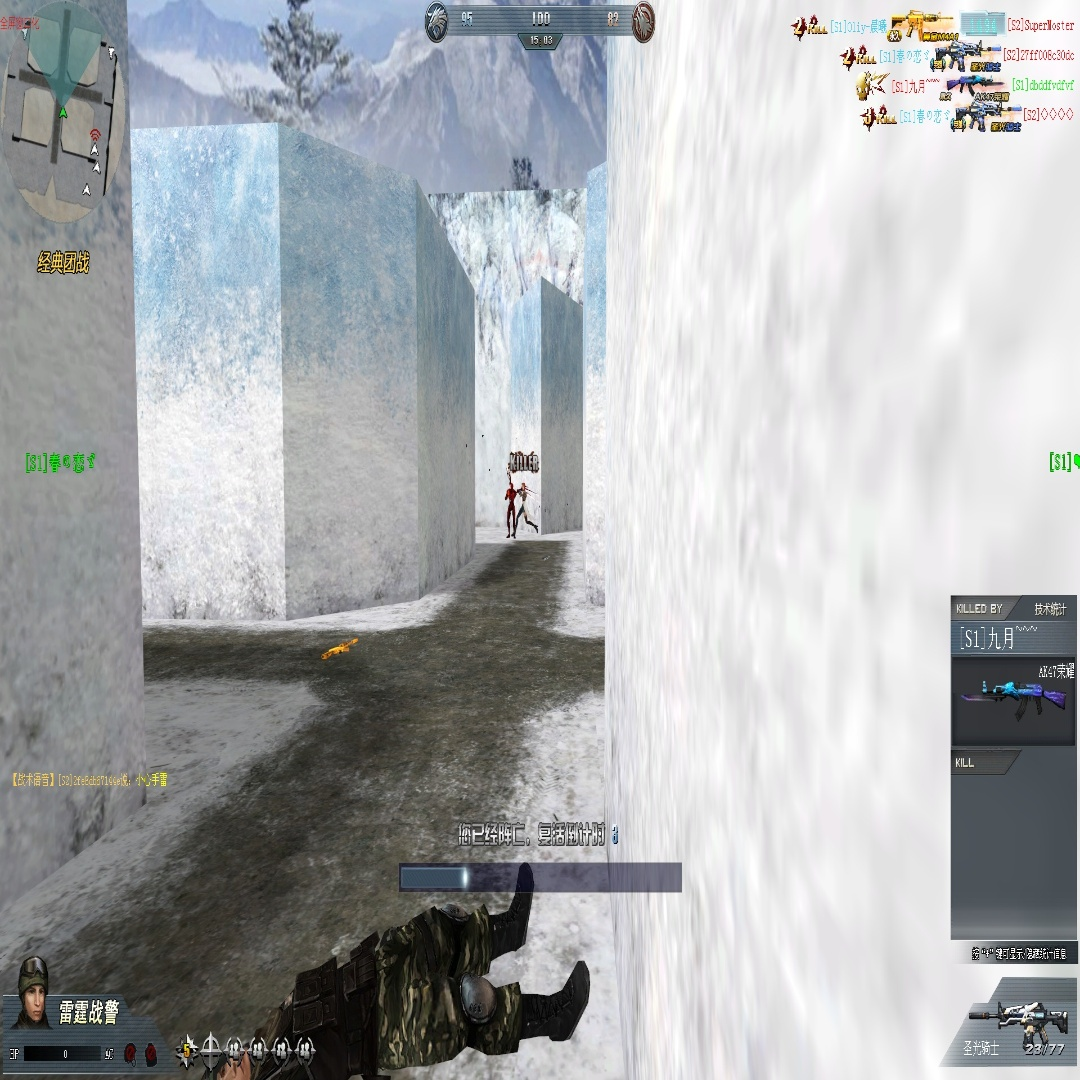t: (505, 481, 519, 537)
